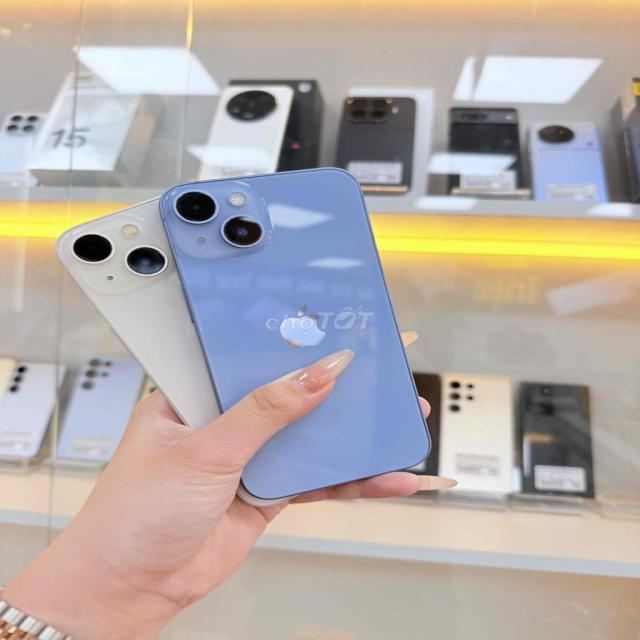gen_14: (165, 155, 447, 496)
